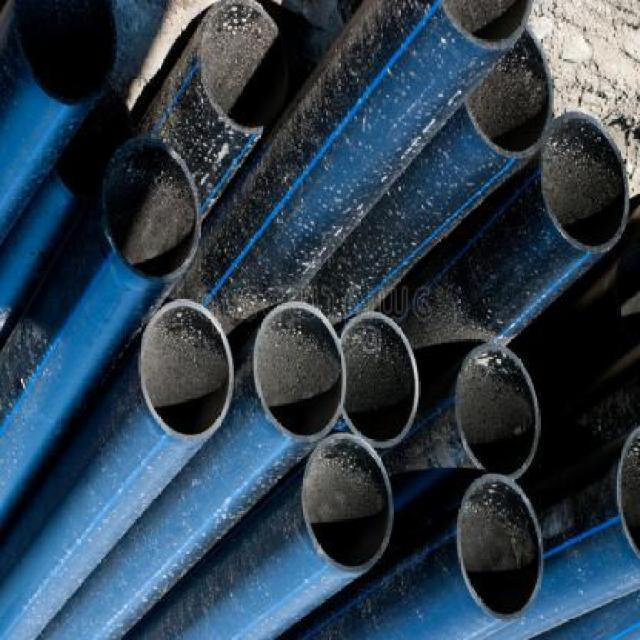pipe: (103, 141, 202, 282), (140, 300, 234, 442), (251, 300, 346, 438), (539, 112, 630, 254), (457, 475, 545, 620), (303, 436, 394, 574), (198, 0, 289, 133), (465, 25, 554, 159), (454, 345, 540, 479), (11, 2, 119, 107), (339, 311, 419, 447)
